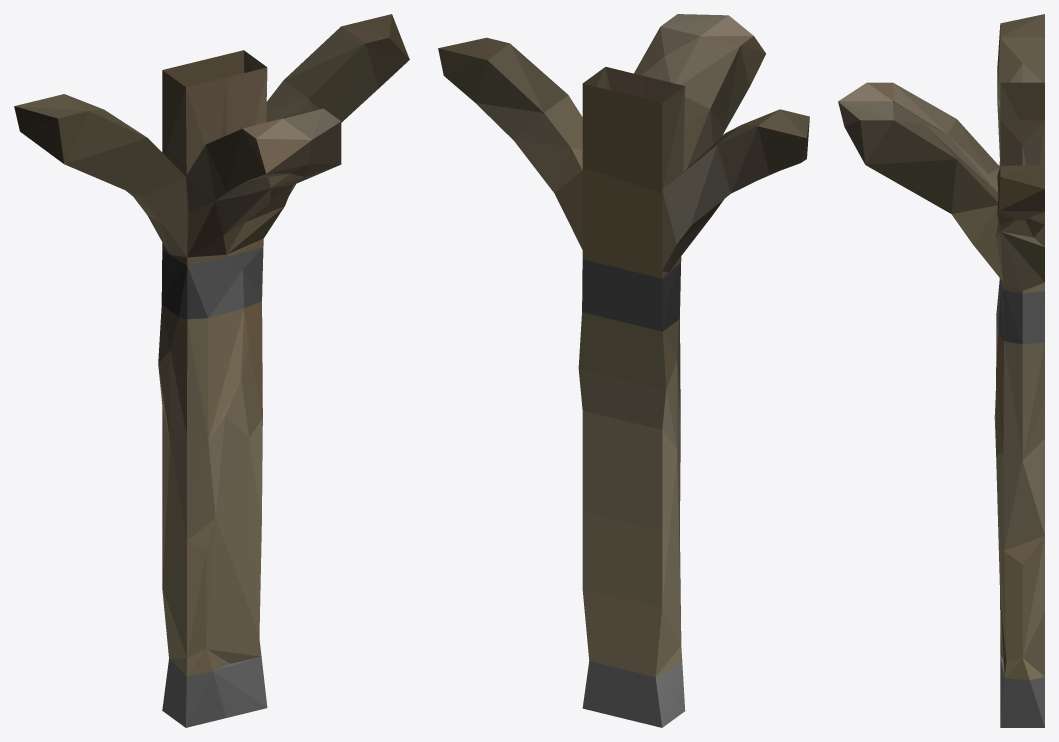
The model's file is Wall_UG-PostSide.fbx.
3 renders of one model, left to right at view 1: azimuth 30°, elevation 25°; view 2: azimuth 150°, elevation 25°; view 3: azimuth 270°, elevation 25°, orthographic. The views are drawn at different scales.
Parts seen in each view (by area): view 1: Wall_UG-PostSide; view 2: Wall_UG-PostSide; view 3: Wall_UG-PostSide.
Part boxes in pixels (x1,y1,x2,y2): Wall_UG-PostSide: (14,14,409,727); Wall_UG-PostSide: (438,14,809,727); Wall_UG-PostSide: (838,14,1044,727).
Size of the model in its own units: 231 by 375 by 116.
